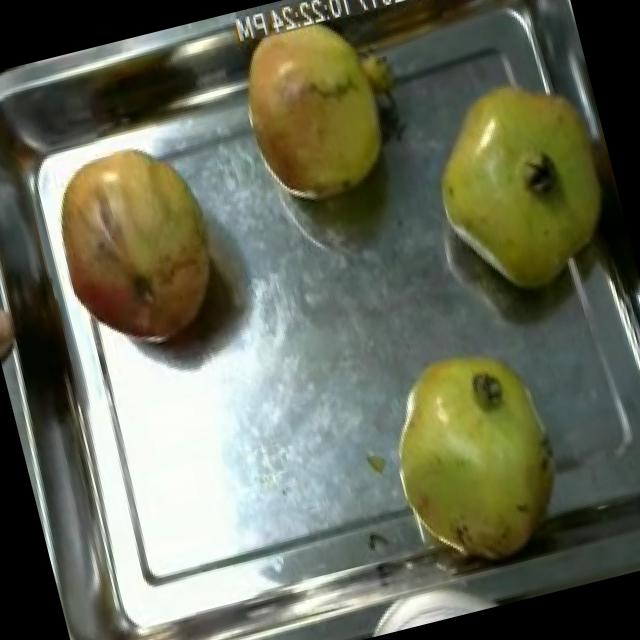fruit: (329, 312, 593, 600), (400, 52, 638, 318), (31, 119, 246, 374), (213, 0, 418, 224)
